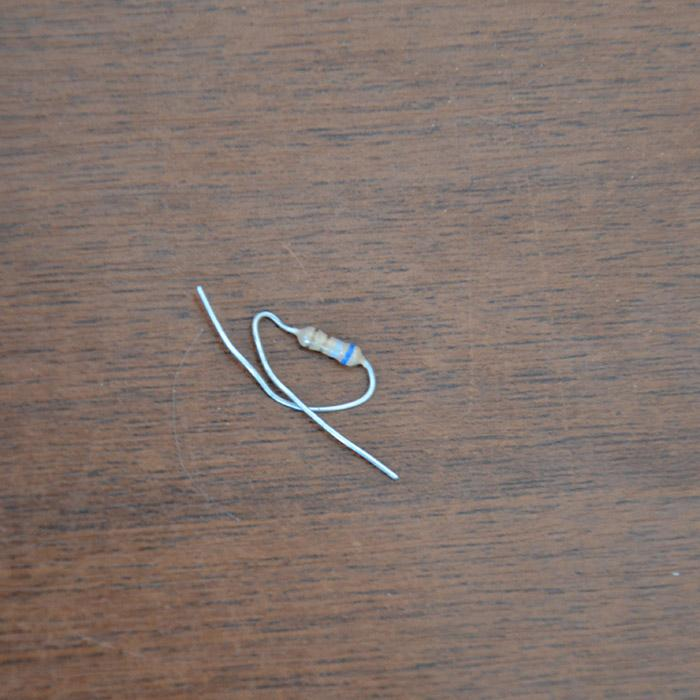resistor: (291, 322, 370, 369)
